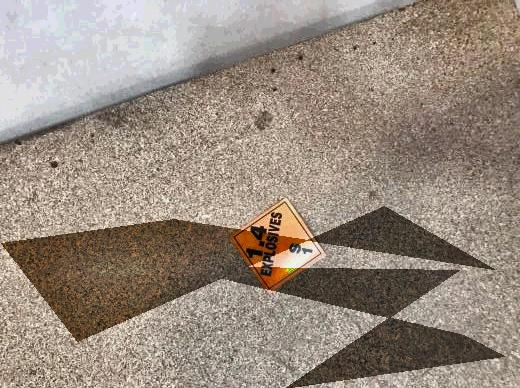explosive: (231, 196, 328, 293)
